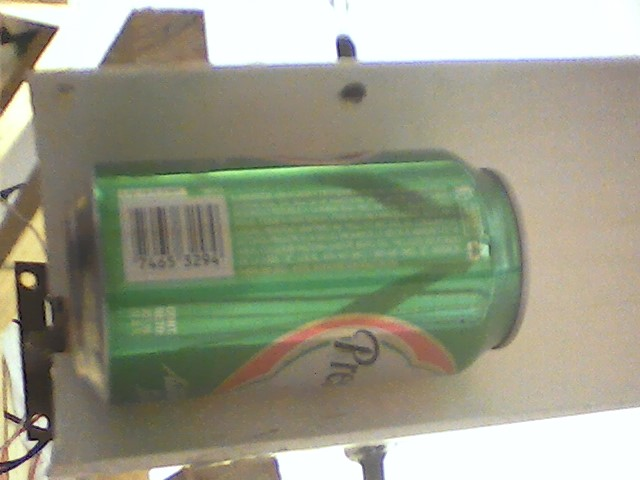lata: (54, 144, 543, 413)
